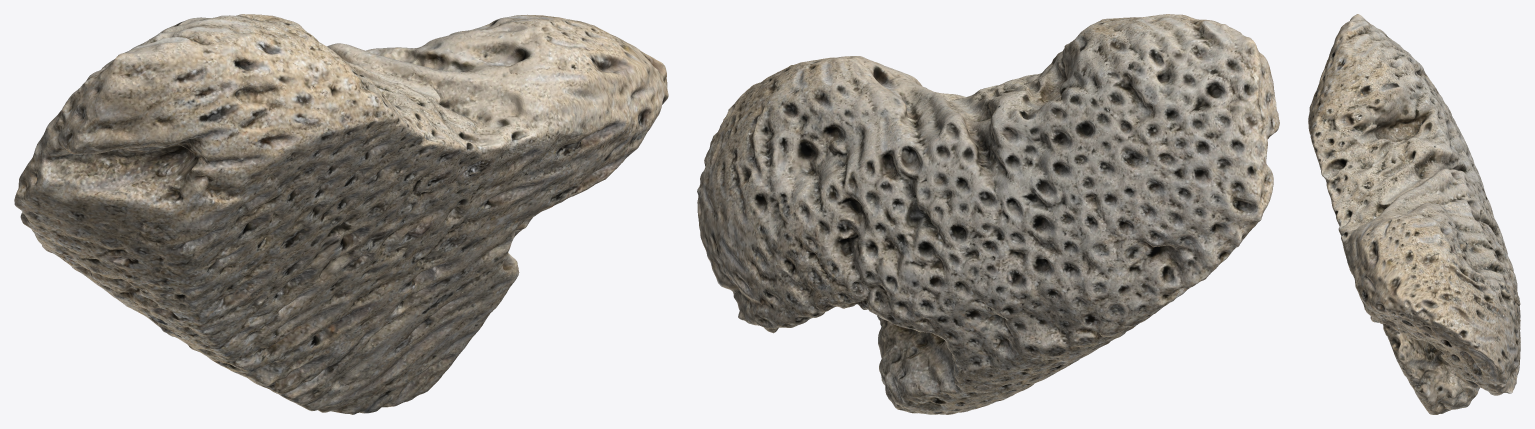
File: MZUR3D-002.glb
The picture shows the model from 3 angles, left to right: view 1: azimuth 30°, elevation 25°; view 2: azimuth 150°, elevation 25°; view 3: azimuth 270°, elevation 25°; orthographic projection. The views are drawn at different scales.
Visible parts, largest first — view 1: MZUR3D-002; view 2: MZUR3D-002; view 3: MZUR3D-002.
Boxes of the visible parts, box(x1,y1,x2,y2) form: MZUR3D-002: box(14, 14, 668, 414); MZUR3D-002: box(697, 14, 1279, 414); MZUR3D-002: box(1308, 14, 1520, 414).
Size of the model in its own units: 3.06 by 2.19 by 1.41.
1 material, 1 textured.
